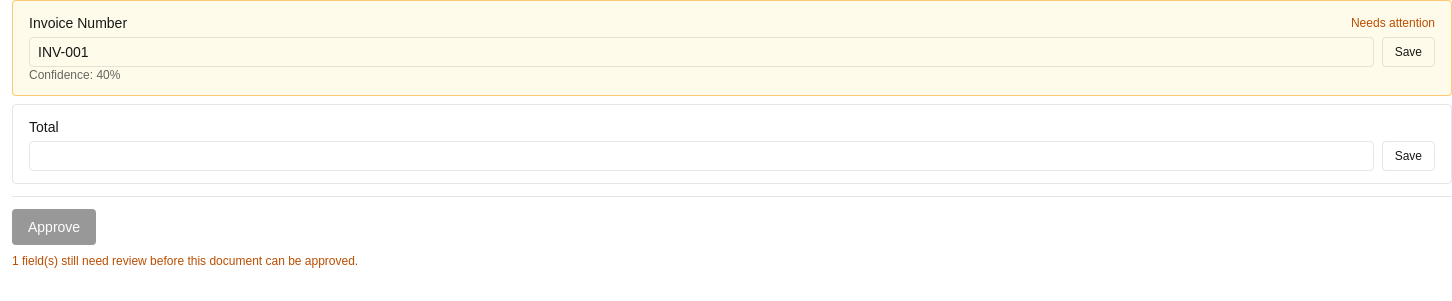
Test: ReviewPanel — corrections › shows a per-field error and leaves the field uncorrected when the save fails
The image size is (1452, 301).
Click the button with aria-label "Save Invoice Number".
click(1408, 52)  # box x1=1382 y1=37 x2=1435 y2=67
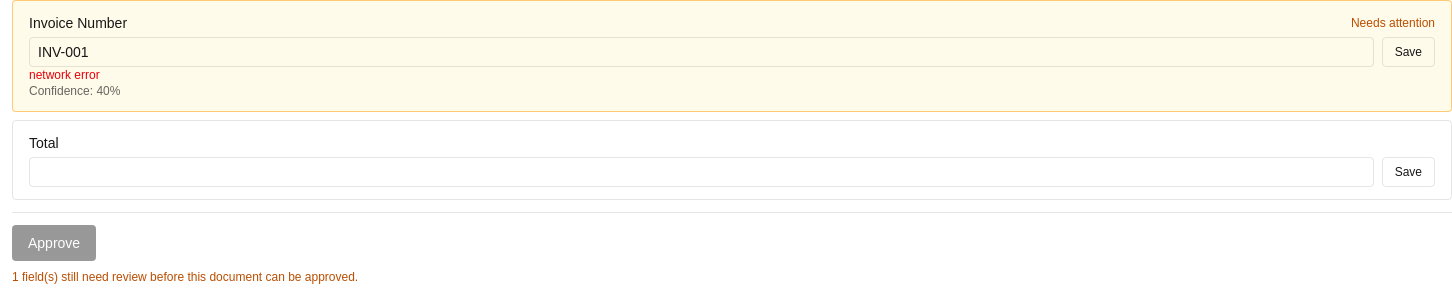
Expected: the message reads "network error", x1=29 y1=68 x2=100 y2=82
